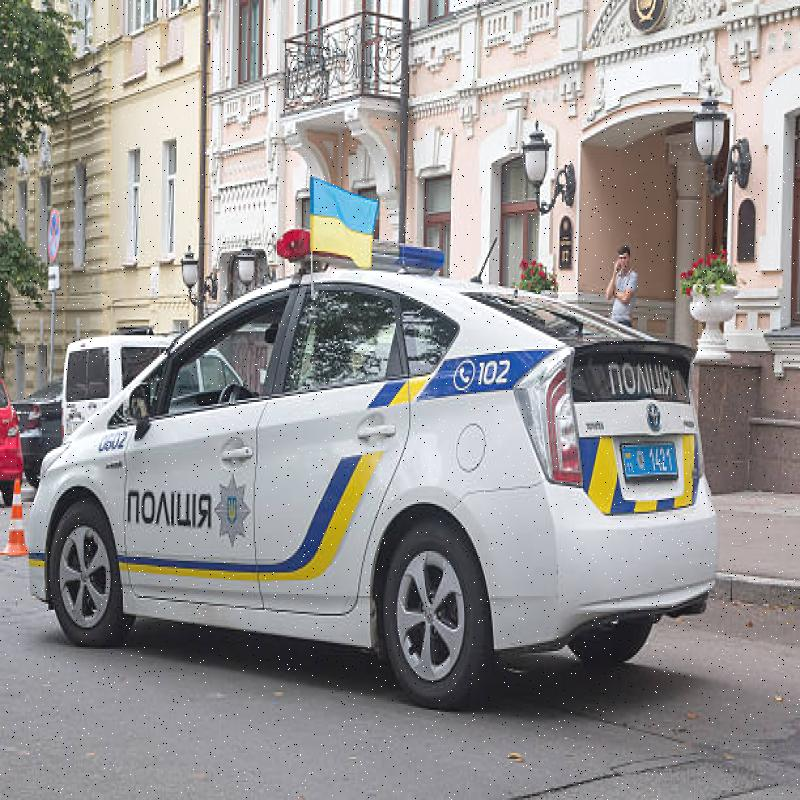AmbulanceSiren: (274, 210, 461, 288)
